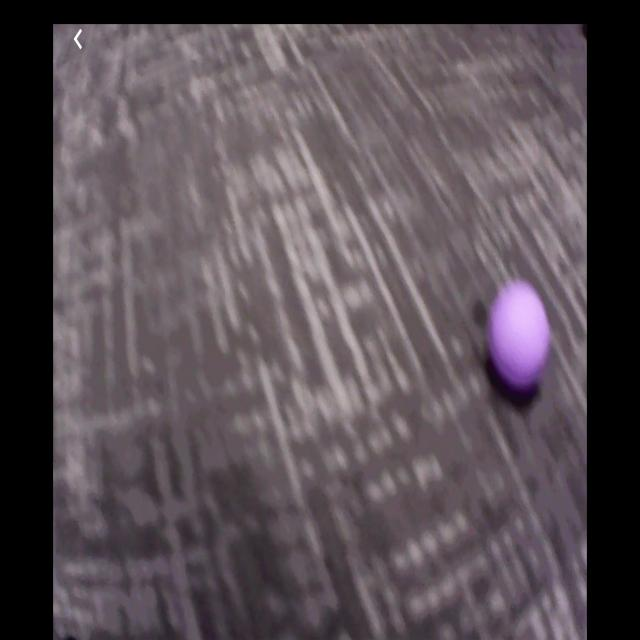ball: (488, 282, 552, 388)
